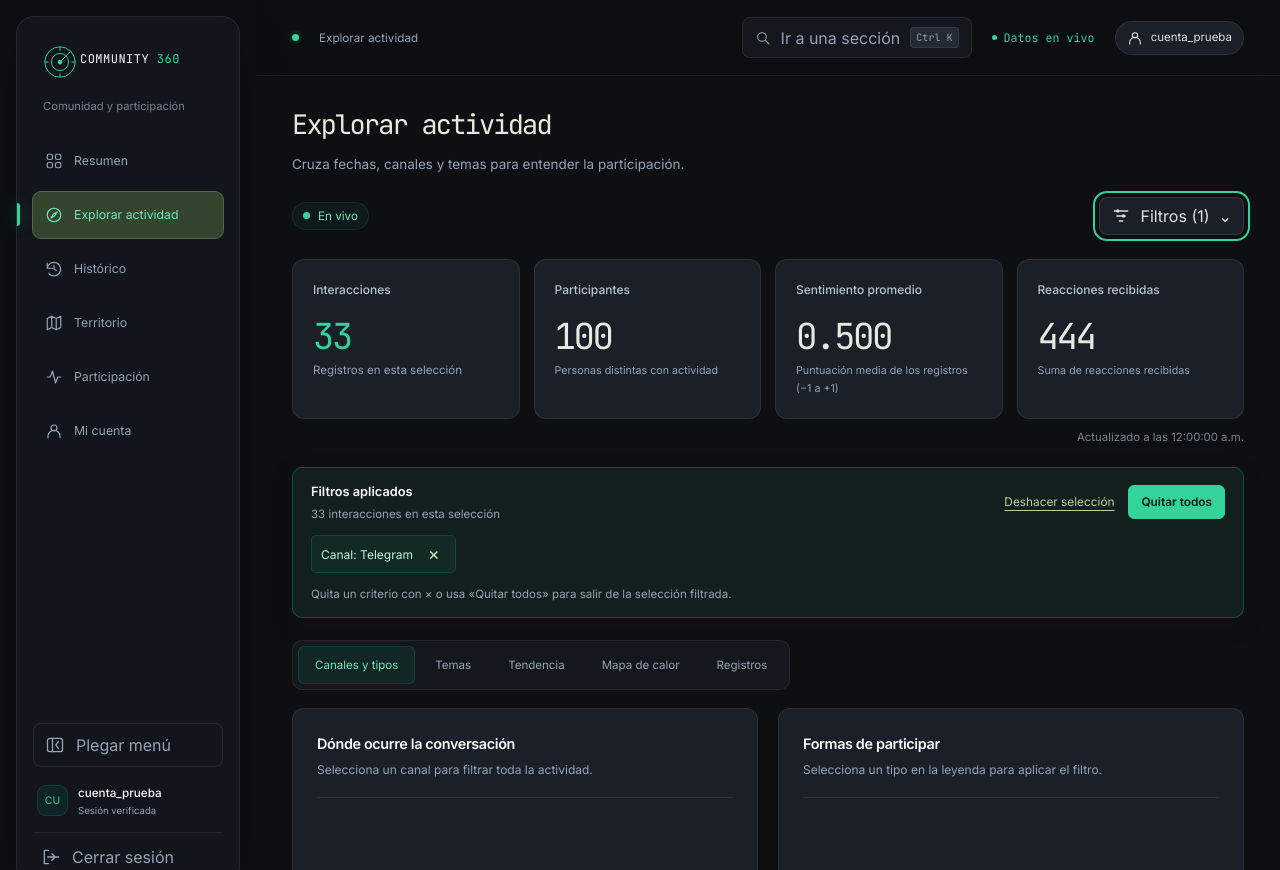
Actividad en tiempo real › permite recuperar la selección anterior cuando se rechaza un filtro
Earlier steps of the test are not shown.
Expected: the text "En vivo" is shown, left=292, top=202, right=369, bottom=230
Click the button "Filtros (1) ⌄" at x=1172, y=216, box left=1099, top=196, right=1244, bottom=234
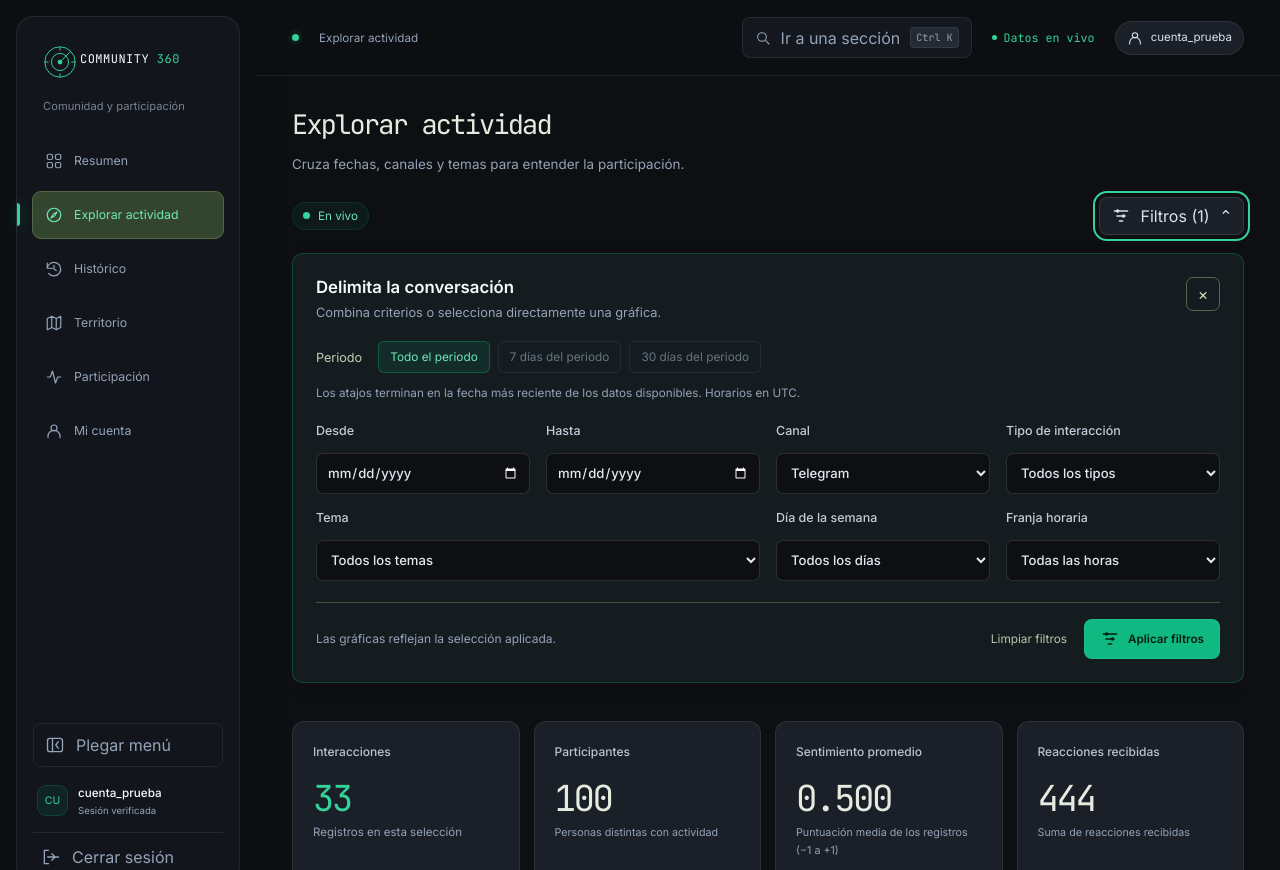
Expected: the dropdown labelled "Canal" shows "Telegram", left=776, top=453, right=990, bottom=494
